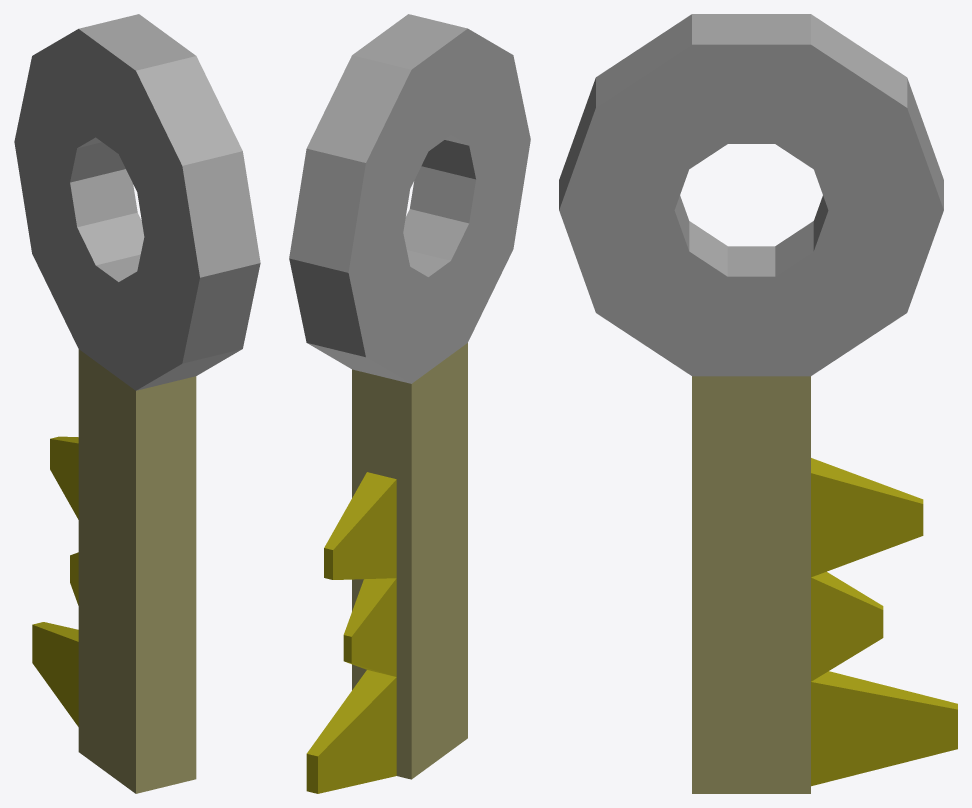
The model's file is key.fbx.
3 views of the same model, side by side, from view 1: azimuth 30°, elevation 25°; view 2: azimuth 150°, elevation 25°; view 3: azimuth 270°, elevation 25° (orthographic). The views are drawn at different scales.
Parts seen in each view (by area): view 1: pPipe1; view 2: pPipe1; view 3: pPipe1.
Boxes of the visible parts, x1=… form: pPipe1: x1=14, y1=14, x2=260, y2=793; pPipe1: x1=289, y1=14, x2=530, y2=793; pPipe1: x1=559, y1=14, x2=957, y2=793.
Size of the model in its own units: 0.124 by 1.41 by 0.6821.
